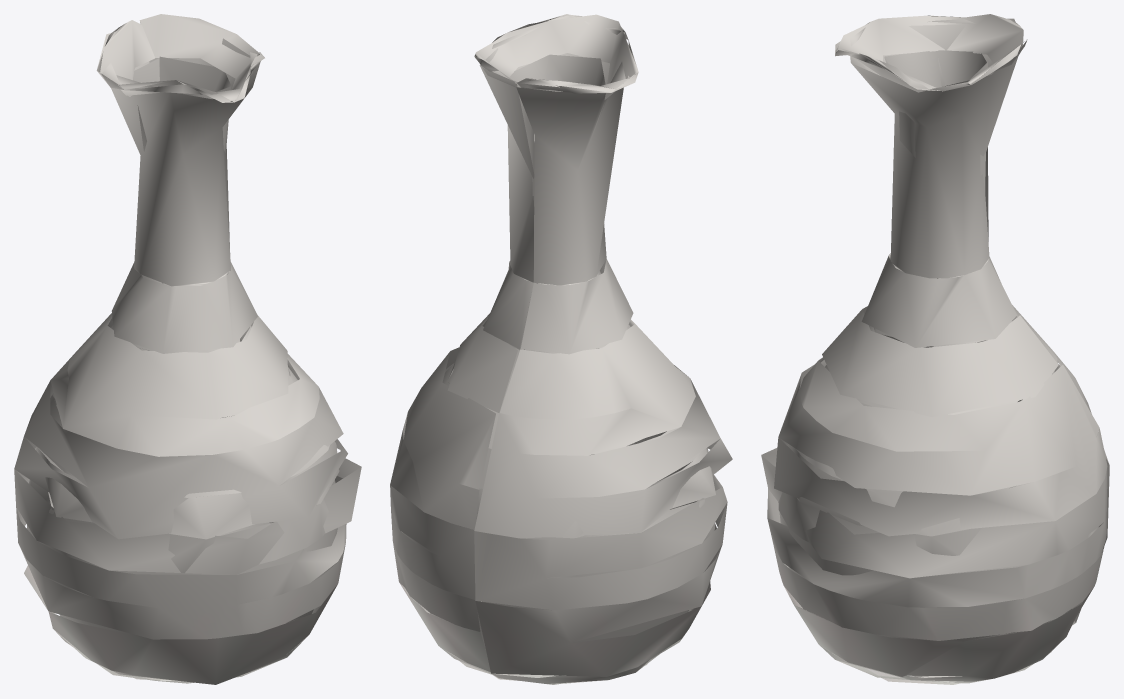
Rendered from vase-lightweight-3c737f6c46.glb.
3 renders of one model, left to right at view 1: azimuth 30°, elevation 25°; view 2: azimuth 150°, elevation 25°; view 3: azimuth 270°, elevation 25°, orthographic. The views are drawn at different scales.
Parts seen in each view (by area): view 1: ceramic_vase_01; view 2: ceramic_vase_01; view 3: ceramic_vase_01.
Part boxes in pixels (<box>): ceramic_vase_01: <box>14,14,361,684</box>; ceramic_vase_01: <box>390,14,732,684</box>; ceramic_vase_01: <box>761,14,1109,684</box>.
Size of the model in its own units: 0.2091 by 0.4017 by 0.2095.
Materials: 1 (1 with a texture image).
